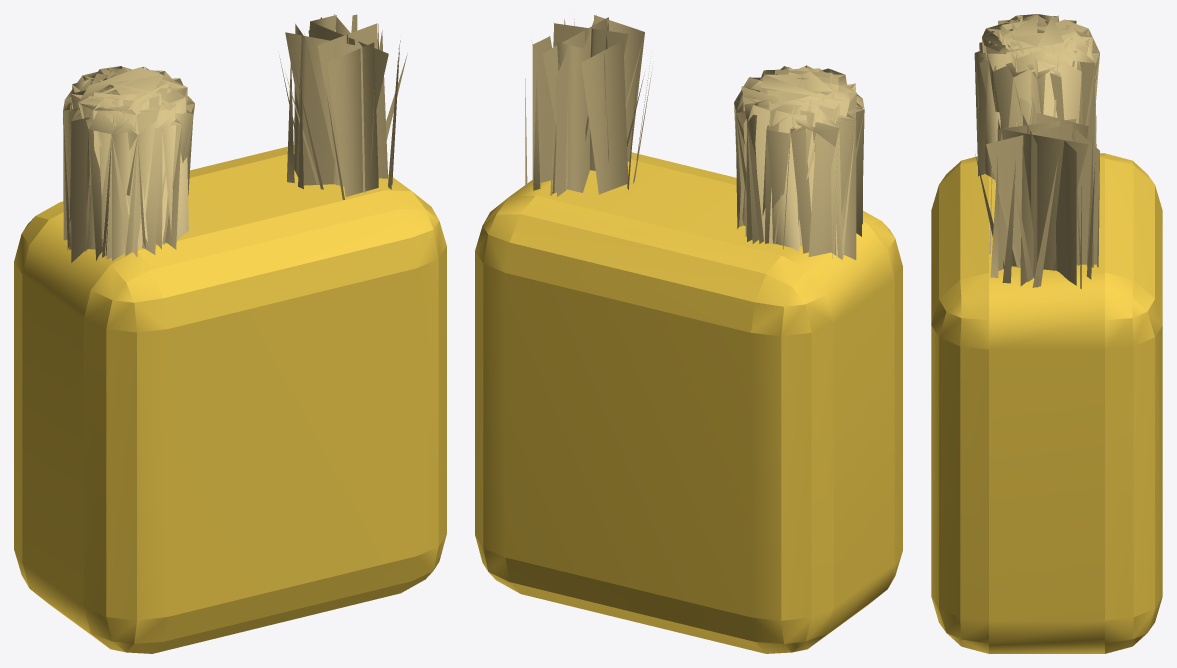
The model's file is kit_breaker.glb.
The picture shows the model from 3 angles, left to right: view 1: azimuth 30°, elevation 25°; view 2: azimuth 150°, elevation 25°; view 3: azimuth 270°, elevation 25°; orthographic projection. The views are drawn at different scales.
Visible parts, largest first — view 1: AmmoPack, SpareRocket, SpareRocket.001; view 2: AmmoPack, SpareRocket, SpareRocket.001; view 3: AmmoPack, SpareRocket.001, SpareRocket.
Part boxes in pixels (box(x1,y1,x2,y2)): AmmoPack: box(14, 145, 446, 653); SpareRocket: box(63, 66, 194, 262); SpareRocket.001: box(279, 14, 407, 199); AmmoPack: box(475, 152, 902, 653); SpareRocket: box(734, 65, 864, 259); SpareRocket.001: box(525, 15, 651, 196); AmmoPack: box(931, 153, 1162, 653); SpareRocket.001: box(975, 113, 1099, 288); SpareRocket: box(974, 14, 1099, 179).
Bounding box in the file's own units: 0.4 × 0.585 × 0.24.
